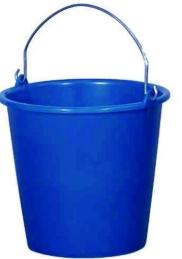SEAU: (0, 3, 171, 259)
